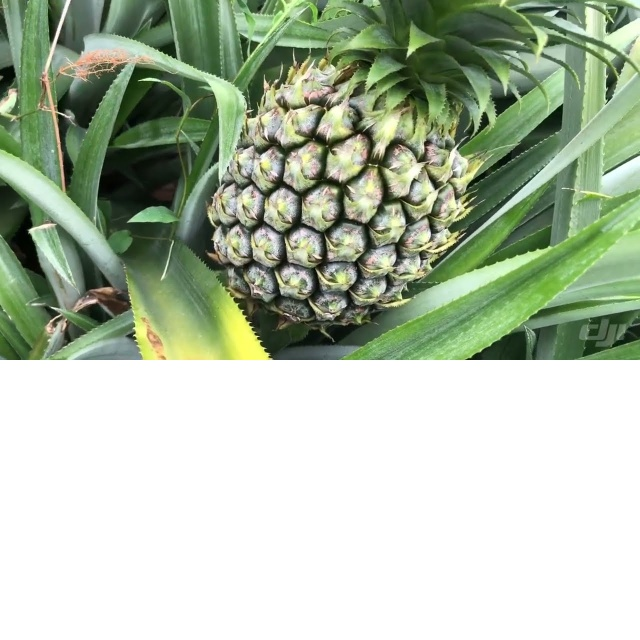thom: (193, 36, 487, 333)
